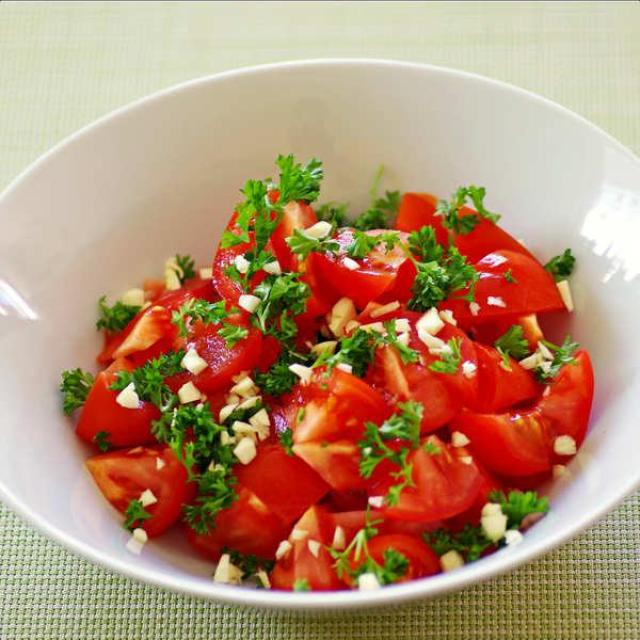Tomato: (284, 363, 398, 451), (452, 250, 572, 317), (231, 458, 316, 530)
